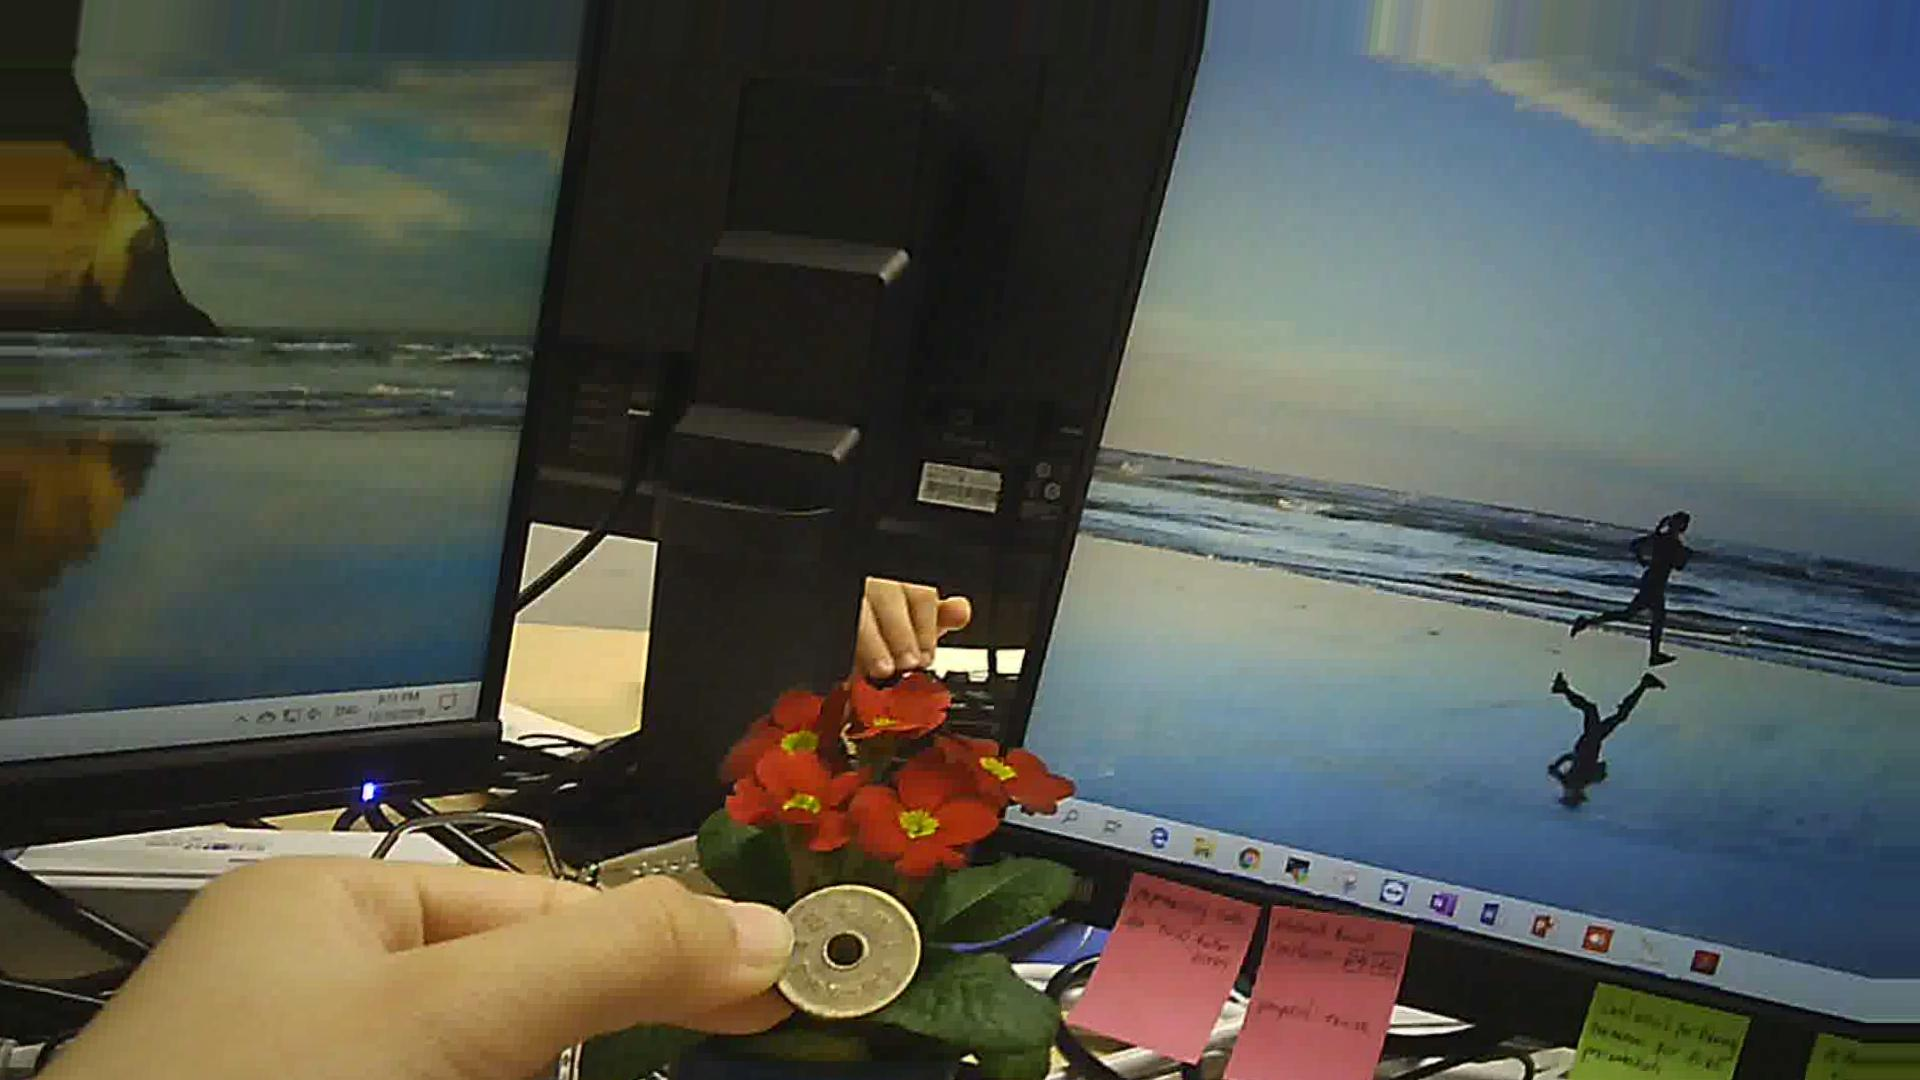5 Yen: (760, 882, 924, 1023)
